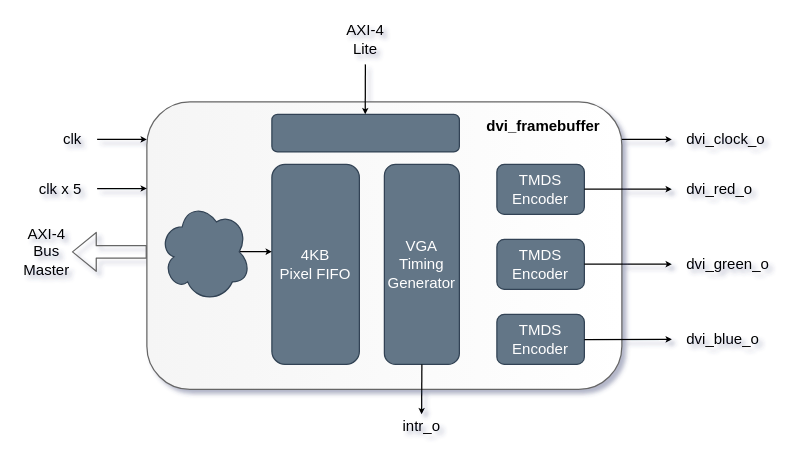
Some shapes in this 798 by 469 pixel diagram are drawn without their labels. Each missing label, with the box of its shape:
AXI-4 Fetch Logic: (158, 201, 251, 302)
Register Interface: (271, 113, 459, 152)
